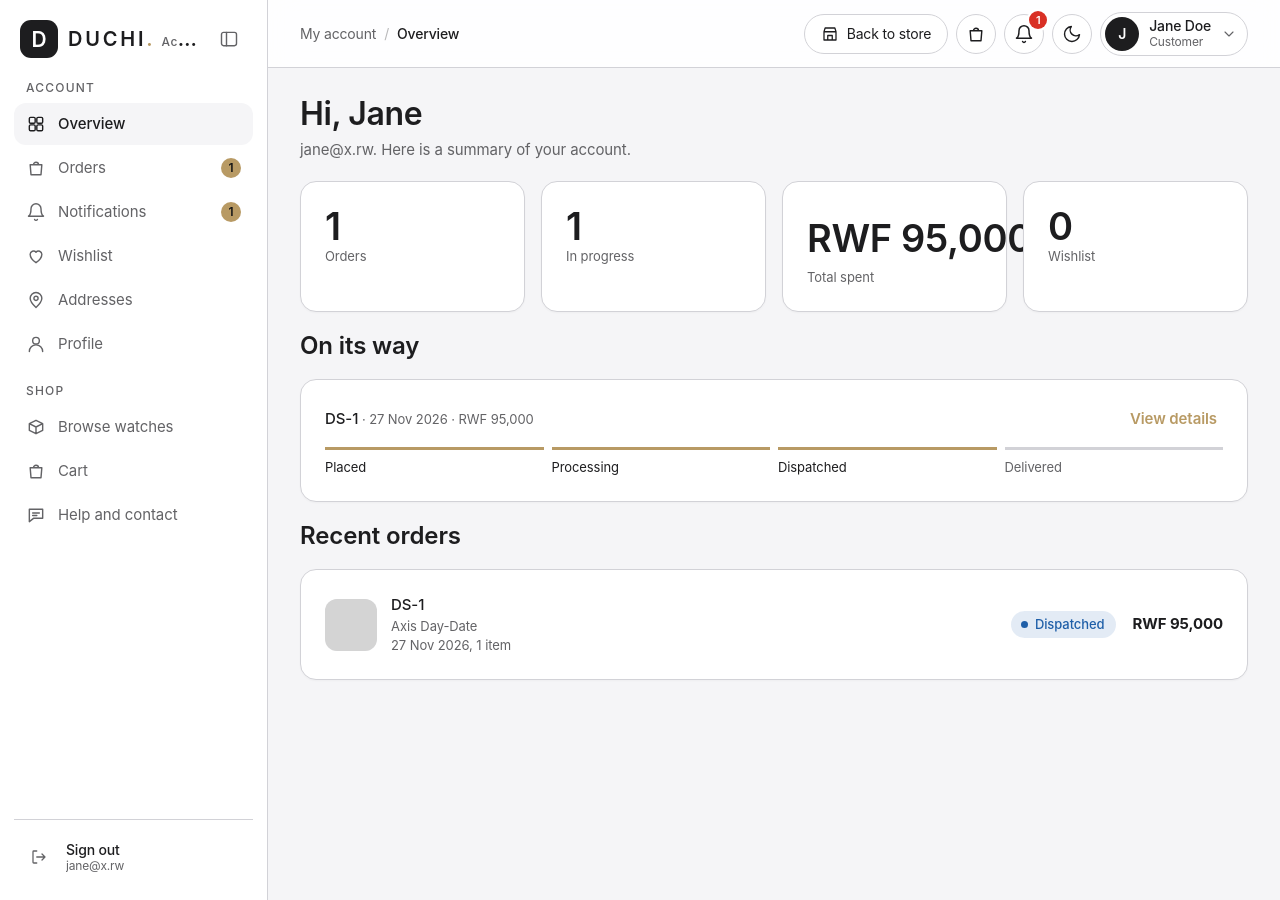
Test: the customer's bell › counts what is new, lists it, opens the order and marks it as read
The width and height of the screenshot is (1280, 900).
Click the button named "Notifications" at (1024, 34), box [1004,14,1044,54]
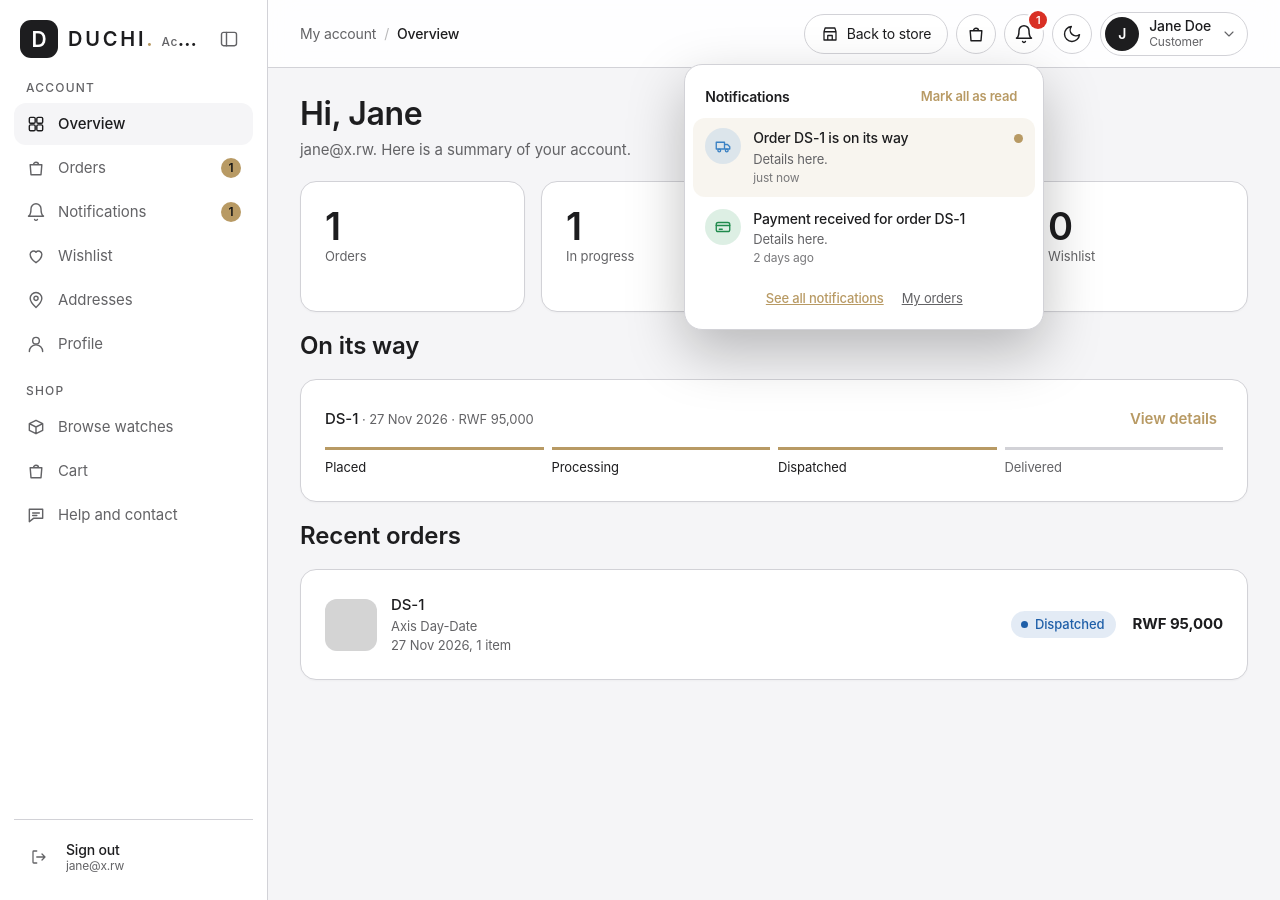
Check: the text "Order DS-1 is on its way" is shown
Check: the text "Payment received for order DS-1" is shown, box [753,210,965,227]
Click the text "Order DS-1 is on its way" at (831, 138), box [753,129,908,146]
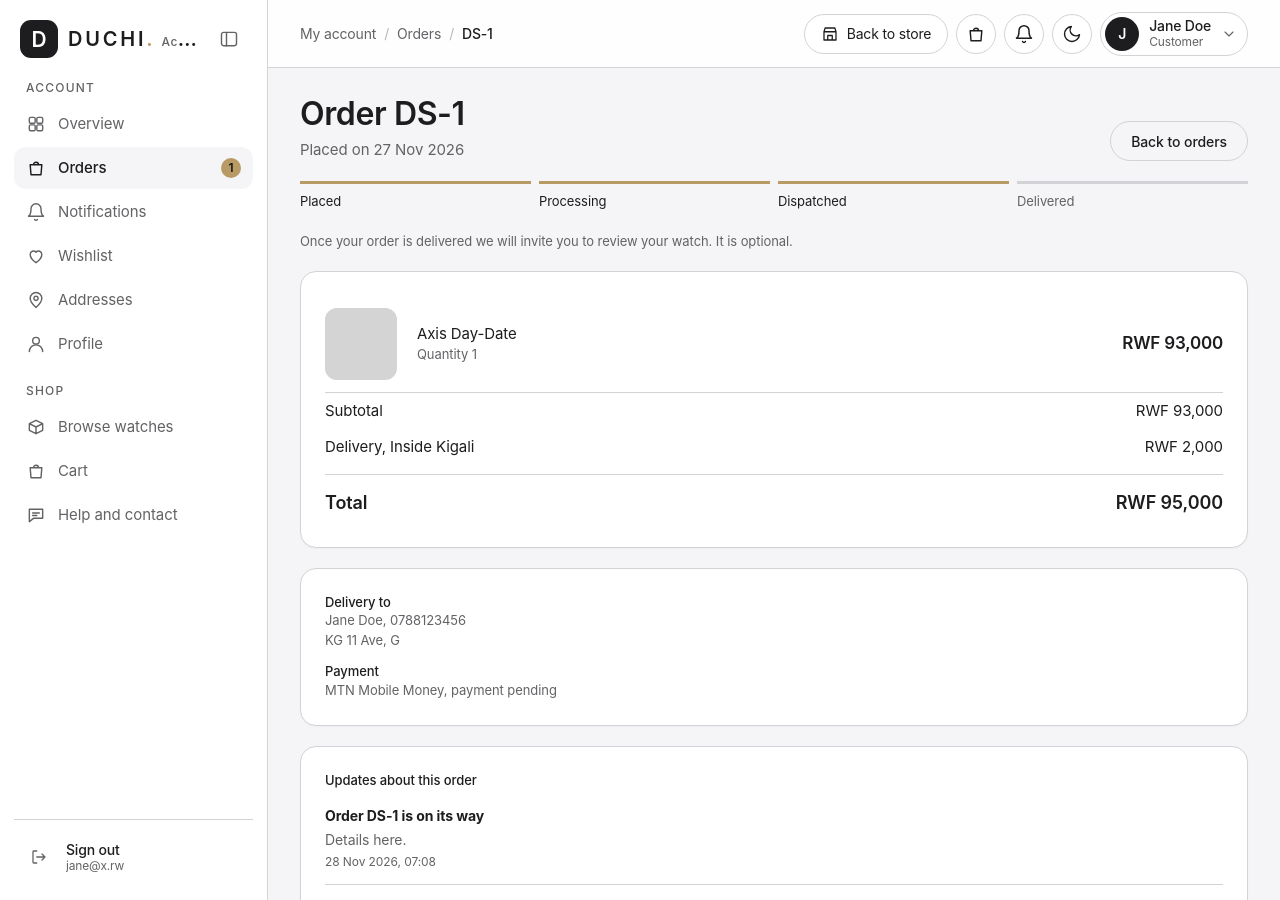
Check: the heading "Order DS-1" is shown, box [300,96,465,133]
Check: the button named "Notifications" is empty, box [1004,14,1044,54]
